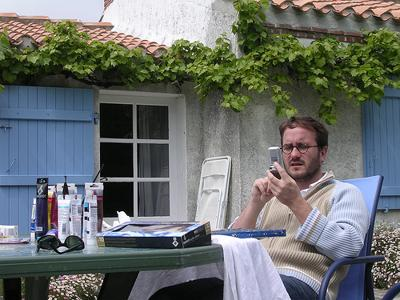person: (150, 115, 369, 300)
